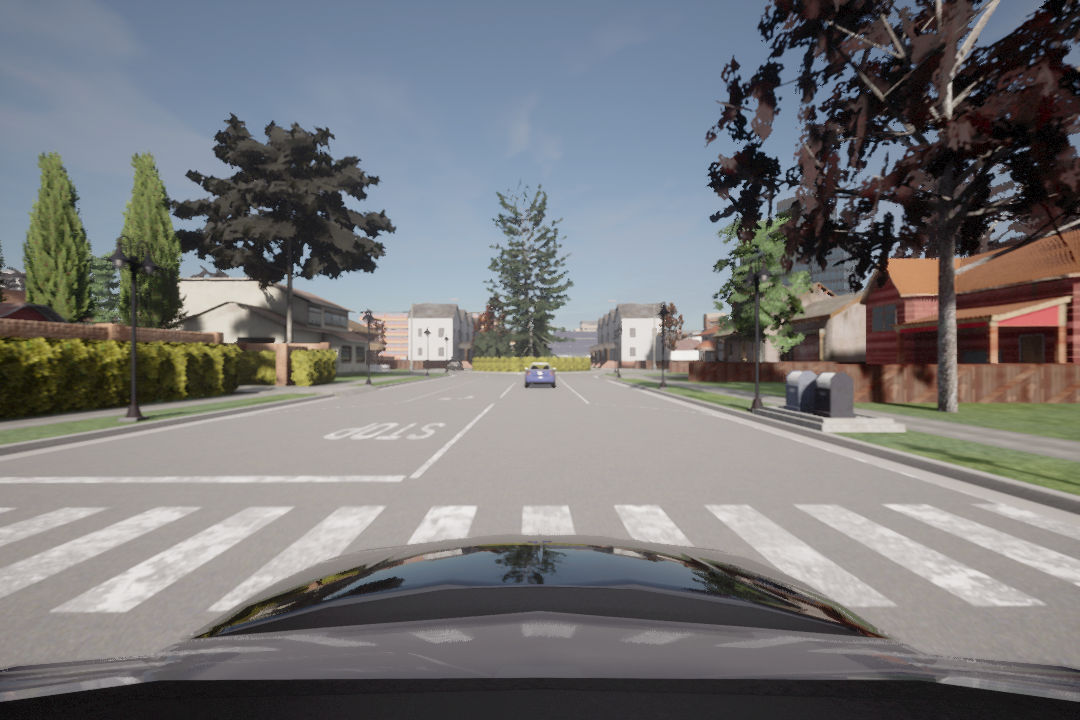walkside: (5, 491, 1080, 622)
